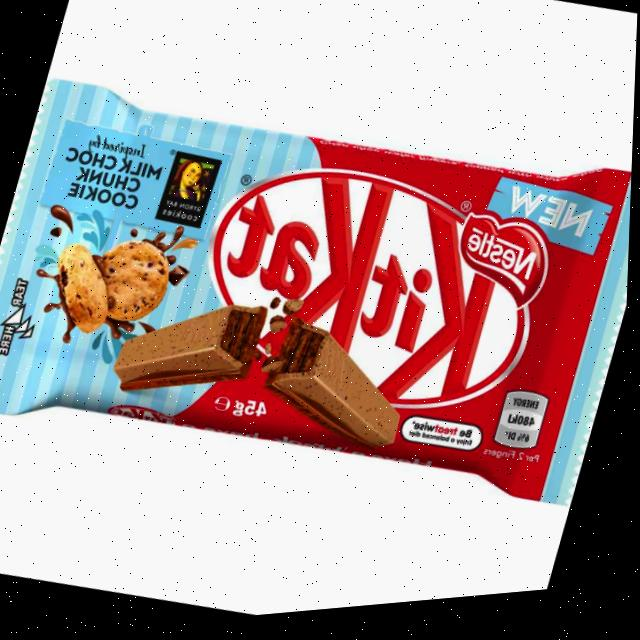kitkat: (0, 35, 638, 561)
